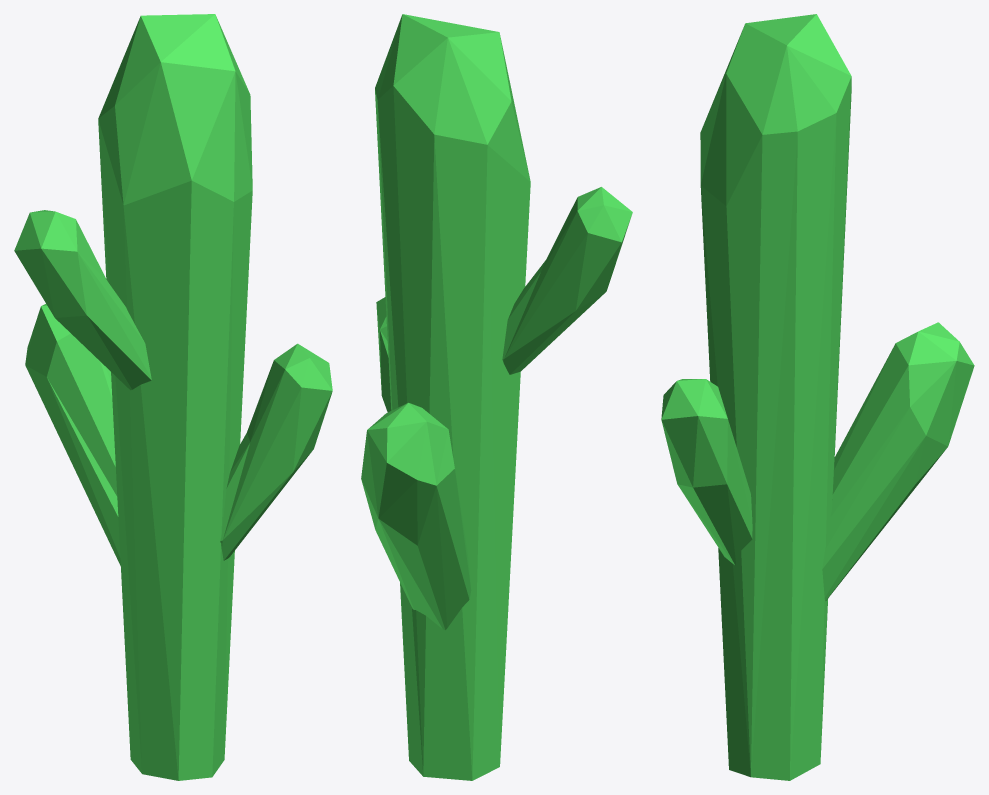
Rendered from cactus5.fbx.
3 views of the same model, side by side, from view 1: azimuth 30°, elevation 25°; view 2: azimuth 150°, elevation 25°; view 3: azimuth 270°, elevation 25° (orthographic).
Visible parts, largest first — view 1: cactus5; view 2: cactus5; view 3: cactus5.
Boxes of the visible parts, box(x1,y1,x2,y2) form: cactus5: box(14, 14, 332, 780); cactus5: box(361, 14, 632, 780); cactus5: box(661, 14, 974, 780).
Size of the model in its own units: 53.51 by 135 by 51.71.
